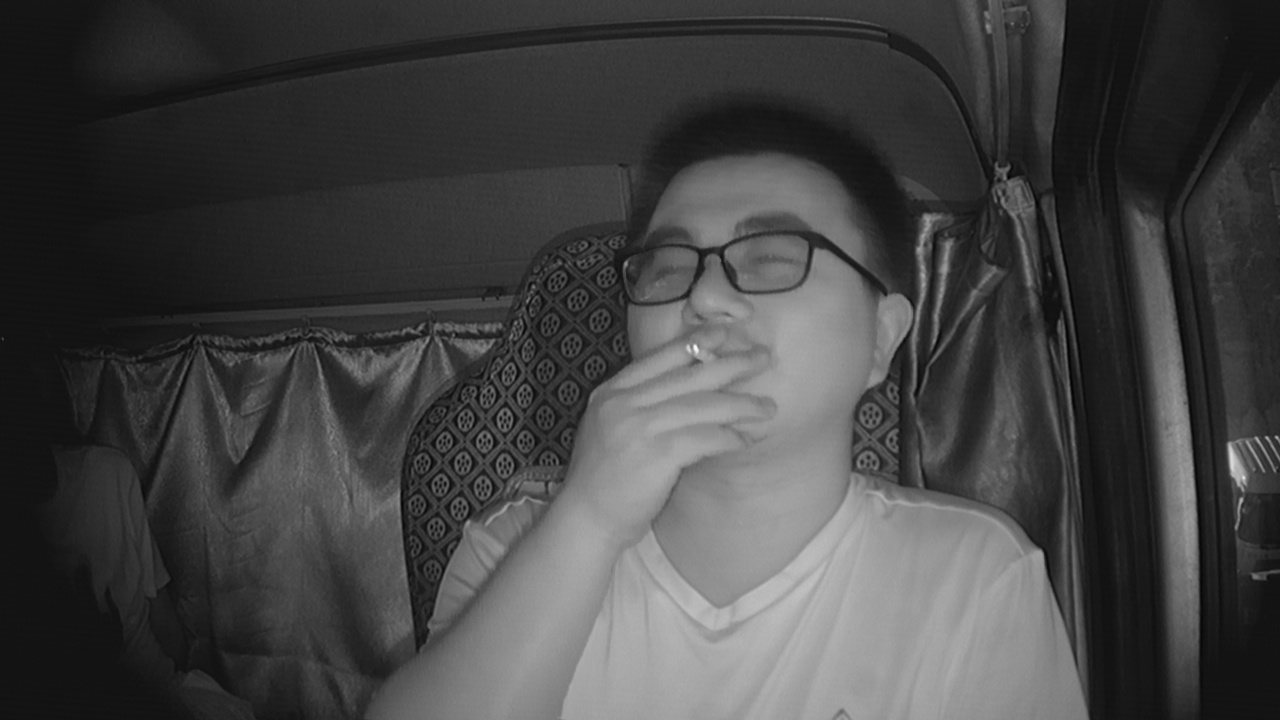hand: (612, 330, 740, 480)
